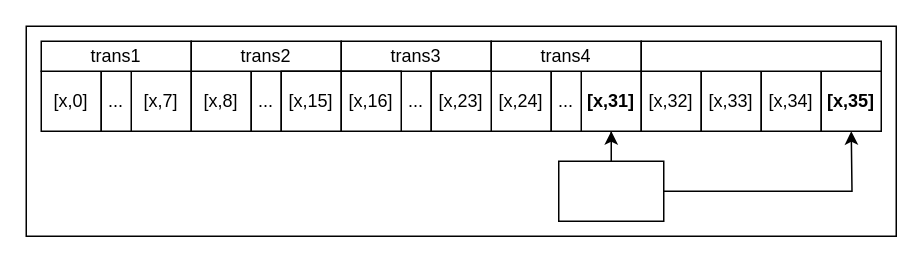
Some shapes in this 923 by 263 pixel diagram are drawn without their labels. The shapes that lost their labels are listed below. From the top down, each one's centre as x and y in pixels, then its label:
At point (760, 55): "trans5".
At point (610, 190): "thread[x,31]".
